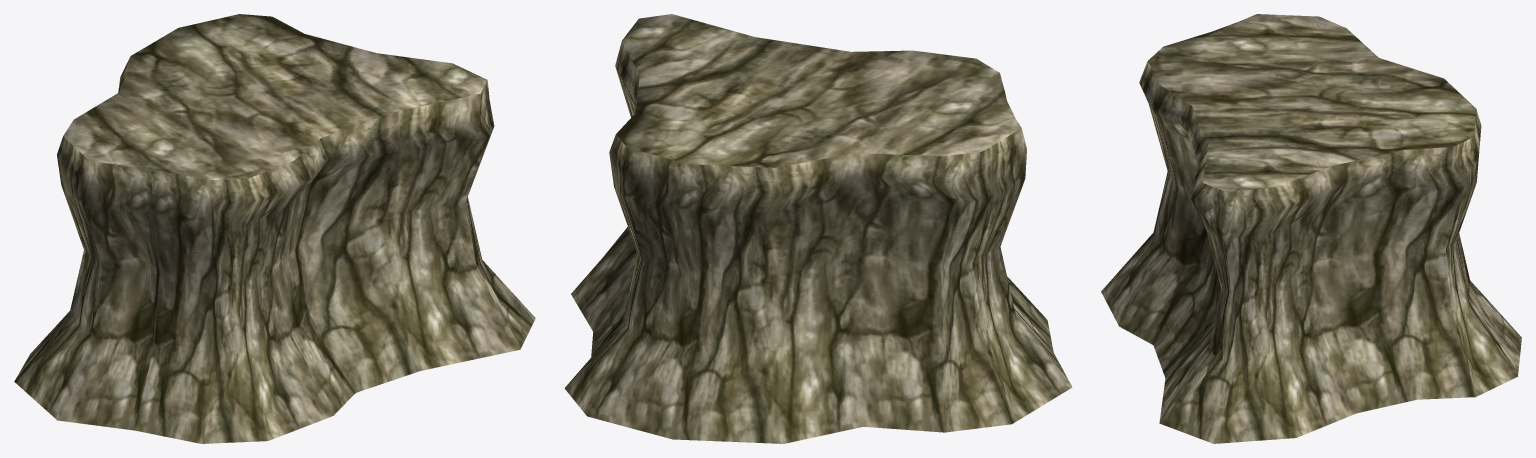
The model's file is CB_NEWPLAYSURFACE_CB_PLAYSURFACE06.fbx.
The picture shows the model from 3 angles, left to right: view 1: azimuth 30°, elevation 25°; view 2: azimuth 150°, elevation 25°; view 3: azimuth 270°, elevation 25°; orthographic projection. The views are drawn at different scales.
Visible parts, largest first — view 1: CB_NEWPLAYSURFACE_CB_PLAYSURFACE06; view 2: CB_NEWPLAYSURFACE_CB_PLAYSURFACE06; view 3: CB_NEWPLAYSURFACE_CB_PLAYSURFACE06.
Boxes of the visible parts, x1=… form: CB_NEWPLAYSURFACE_CB_PLAYSURFACE06: x1=14, y1=14, x2=535, y2=443; CB_NEWPLAYSURFACE_CB_PLAYSURFACE06: x1=564, y1=14, x2=1072, y2=443; CB_NEWPLAYSURFACE_CB_PLAYSURFACE06: x1=1101, y1=14, x2=1521, y2=443.
Size of the model in its own units: 120813 by 60630 by 99409.
2 materials, 2 textured.
